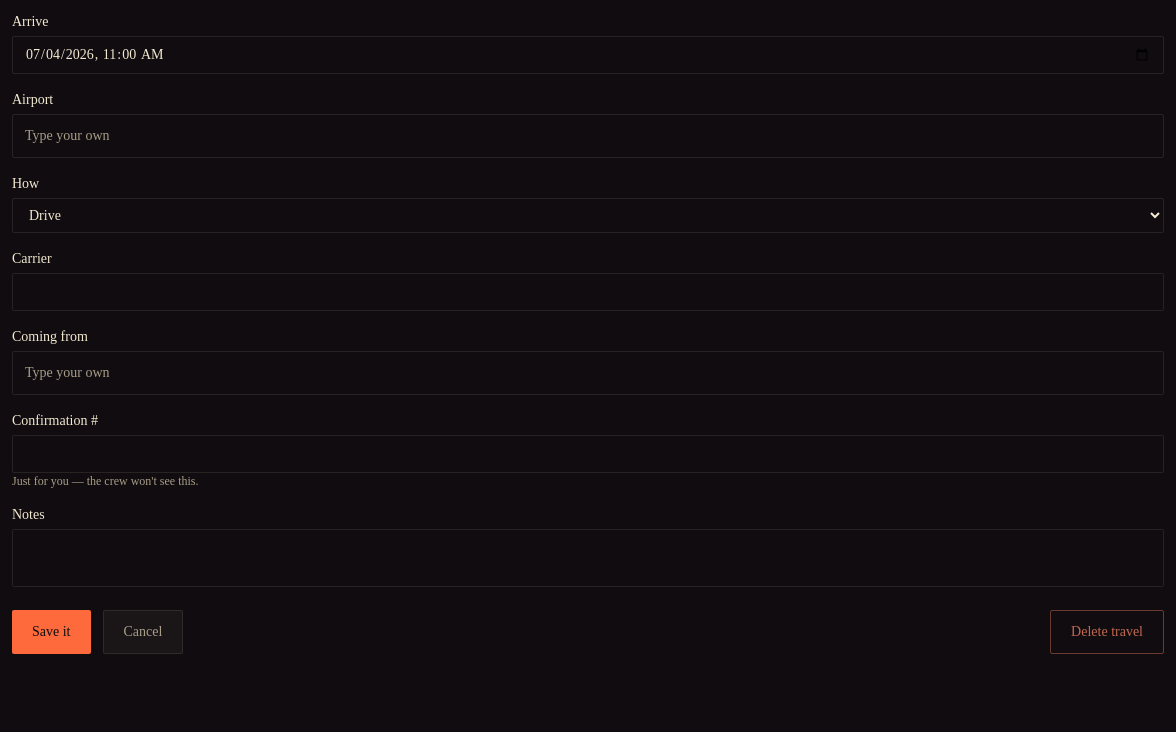
Test: TravelLegForm — rejected awaits (#431) › delete rejection shows network copy and re-enables the sheet
Click the button "Delete travel": x=1107, y=632 [1050,610,1164,654]
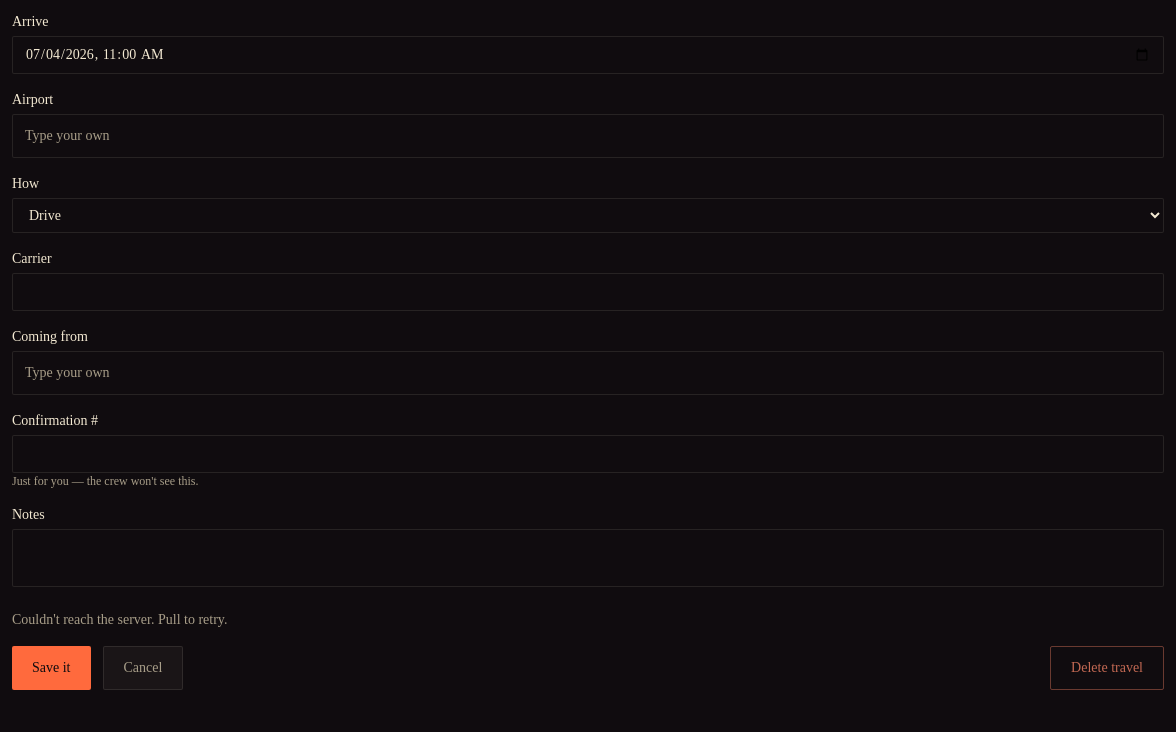
Expected: the button "Delete travel" is enabled, [1050,646,1164,690]
Expected: the message reads "Couldn't reach the server. Pull to retry.", [12,612,228,627]
